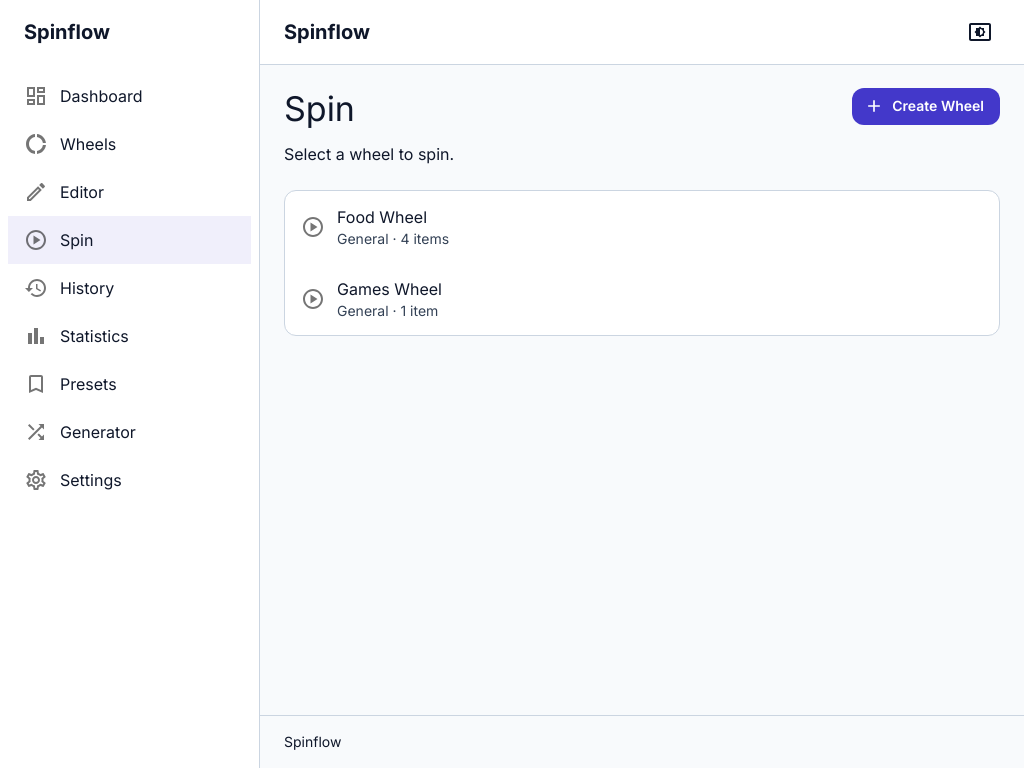
Scenario: SpinScreen › opens the chosen wheel from the picker instead of the active wheel
Click the button with aria-label "Spin Games Wheel": (372, 299) 301,279 -> 442,319
(page scrolled)
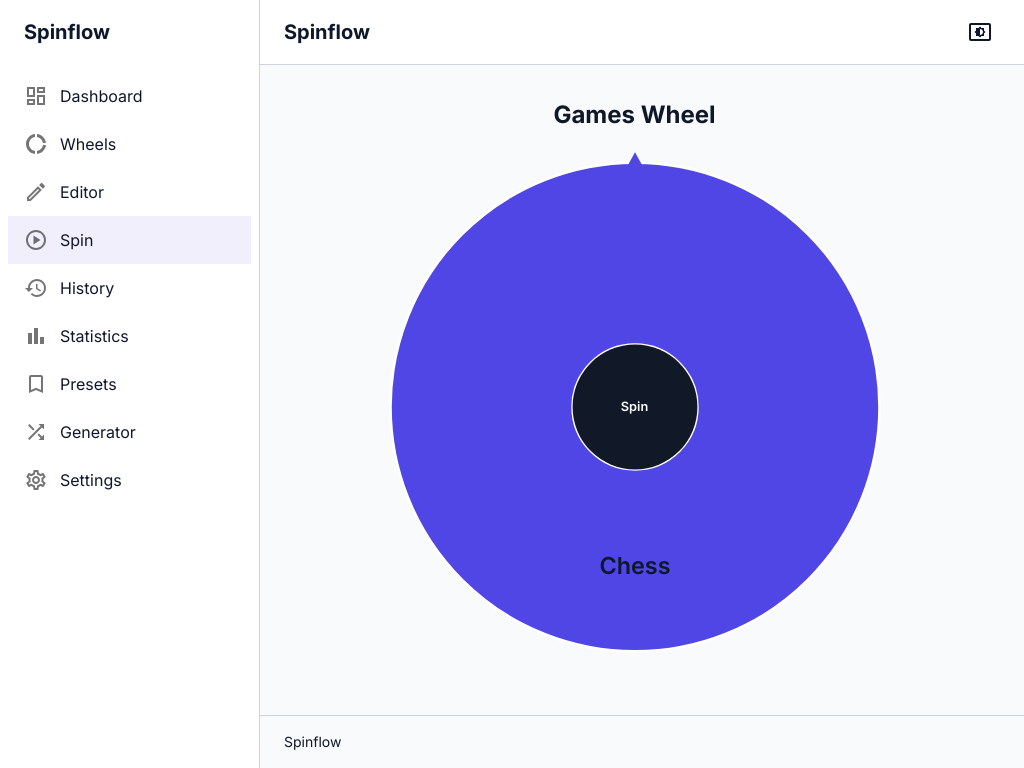
Expected: the text "Spin Games Wheel." is shown, 284,5 -> 375,49
Result: the picture named "spin wheel with chess" is shown at 374,147 -> 894,667
